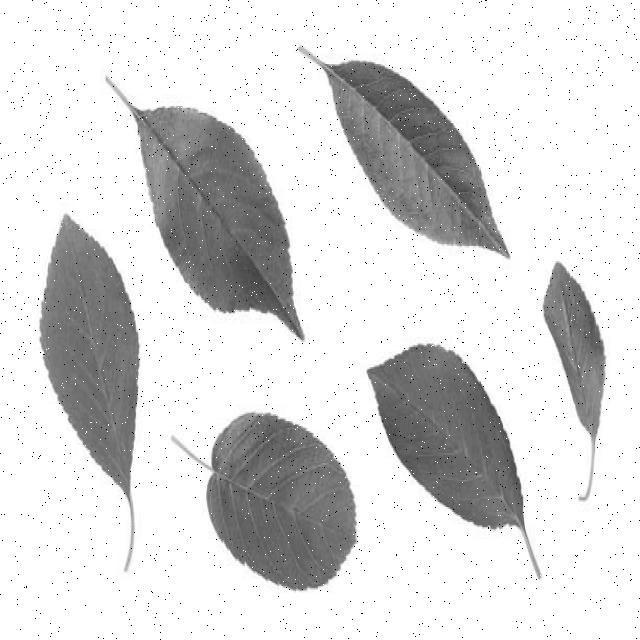yaprak: (105, 92, 319, 344), (199, 416, 394, 640), (357, 358, 538, 580), (324, 50, 512, 262), (31, 197, 146, 476), (538, 243, 609, 509)
